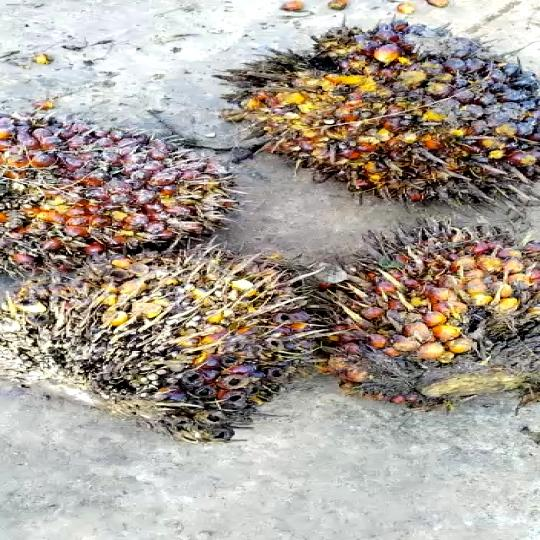masak: (0, 246, 307, 442), (216, 26, 540, 207), (308, 214, 540, 429), (0, 112, 220, 269)
